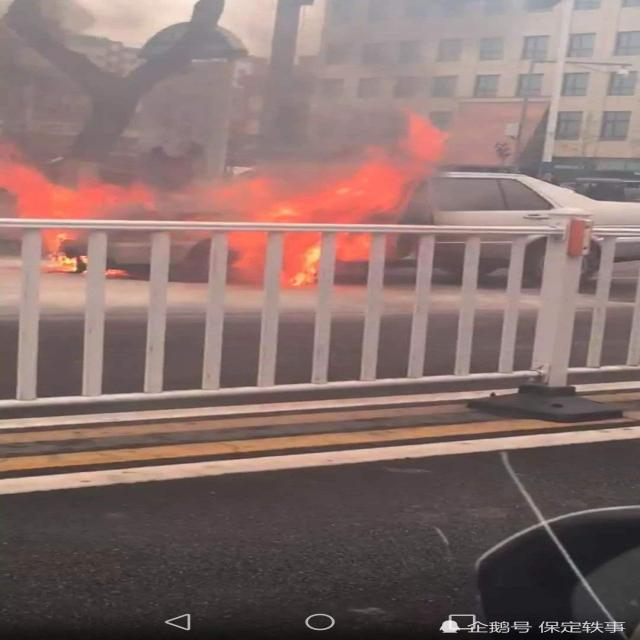fire: (196, 98, 456, 288), (4, 142, 166, 280)
other: (560, 216, 600, 258)
